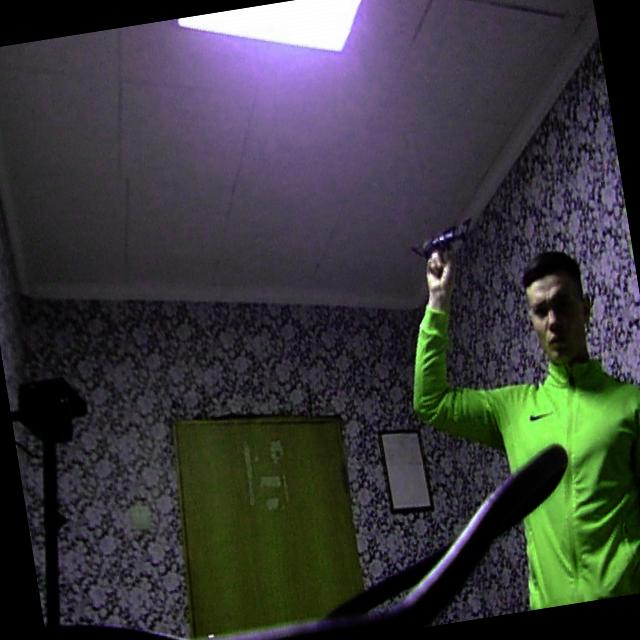drone: (406, 213, 484, 263)
